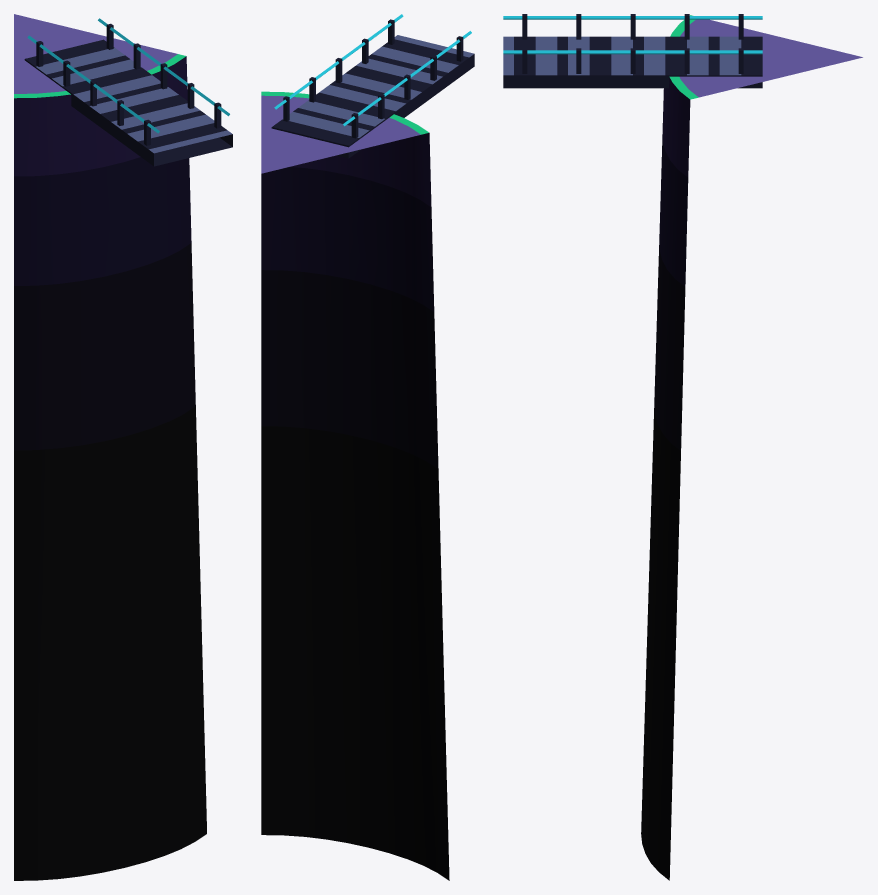
Rendered from MODULE_ALIEN_BRIDGEHEAD_3.fbx.
3 renders of one model, left to right at view 1: azimuth 30°, elevation 25°; view 2: azimuth 150°, elevation 25°; view 3: azimuth 270°, elevation 25°, orthographic. The views are drawn at different scales.
Visible parts, largest first — view 1: MODULE_ALIEN_BRIDGEHEAD_3__export, MODULE_ALIEN_BRIDGEHEAD_3_DECOR__export; view 2: MODULE_ALIEN_BRIDGEHEAD_3__export, MODULE_ALIEN_BRIDGEHEAD_3_DECOR__export; view 3: MODULE_ALIEN_BRIDGEHEAD_3__export, MODULE_ALIEN_BRIDGEHEAD_3_DECOR__export.
Part boxes in pixels (x1,y1,x2,y2): MODULE_ALIEN_BRIDGEHEAD_3__export: [14, 14, 232, 880]; MODULE_ALIEN_BRIDGEHEAD_3_DECOR__export: [27, 18, 229, 145]; MODULE_ALIEN_BRIDGEHEAD_3__export: [261, 35, 474, 880]; MODULE_ALIEN_BRIDGEHEAD_3_DECOR__export: [274, 14, 471, 138]; MODULE_ALIEN_BRIDGEHEAD_3__export: [503, 15, 862, 880]; MODULE_ALIEN_BRIDGEHEAD_3_DECOR__export: [503, 14, 762, 73].
Bounding box in the file's own units: 53.82 × 212 × 86.6.
